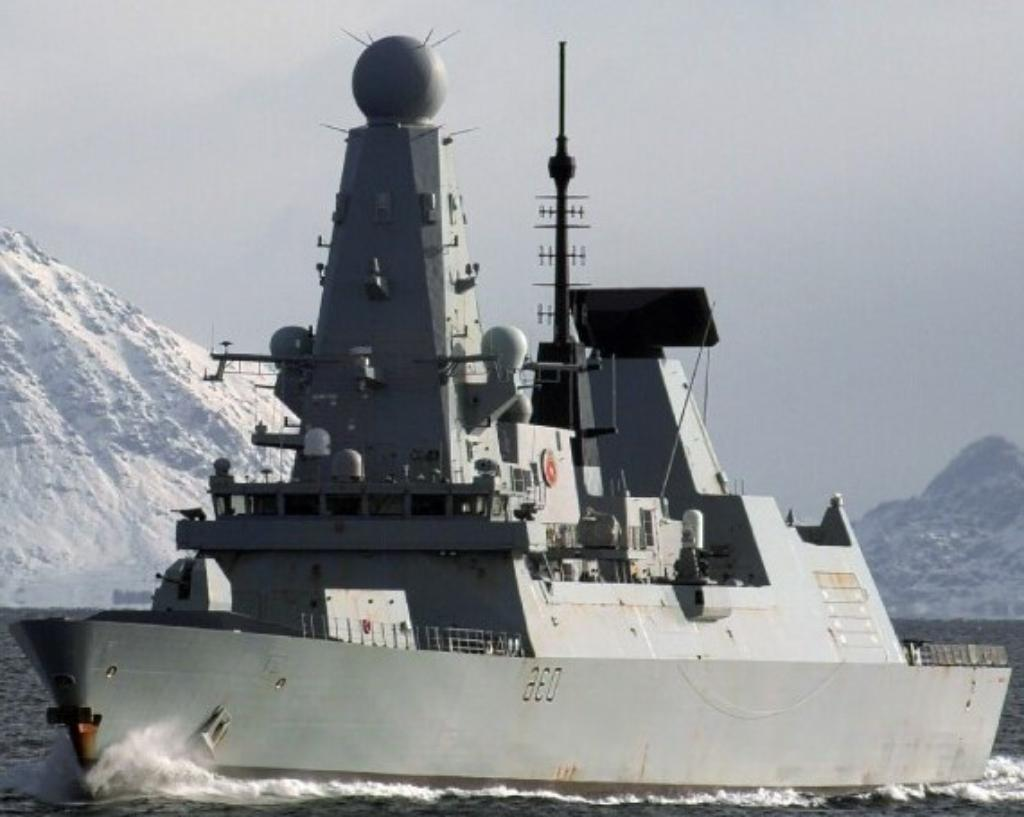Warship: (8, 21, 1012, 795)
